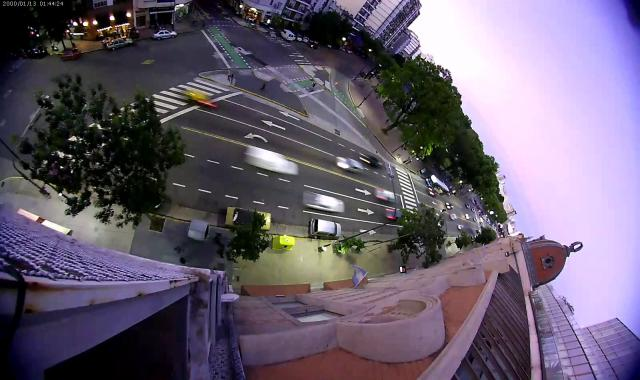bus: (425, 175, 449, 196)
car: (246, 146, 300, 177), (224, 206, 273, 232), (302, 191, 346, 214), (308, 218, 342, 239), (187, 90, 217, 110), (336, 156, 363, 175), (106, 36, 134, 53), (374, 188, 397, 204), (21, 44, 47, 58), (360, 154, 381, 170), (59, 48, 82, 61), (151, 29, 178, 40), (384, 208, 404, 222), (279, 29, 295, 42), (308, 42, 321, 50), (428, 188, 437, 198), (446, 202, 454, 210), (296, 33, 303, 42), (456, 224, 464, 231), (449, 214, 457, 220), (465, 213, 471, 220), (303, 37, 309, 43), (465, 204, 470, 208), (473, 217, 477, 222), (471, 208, 475, 212)
